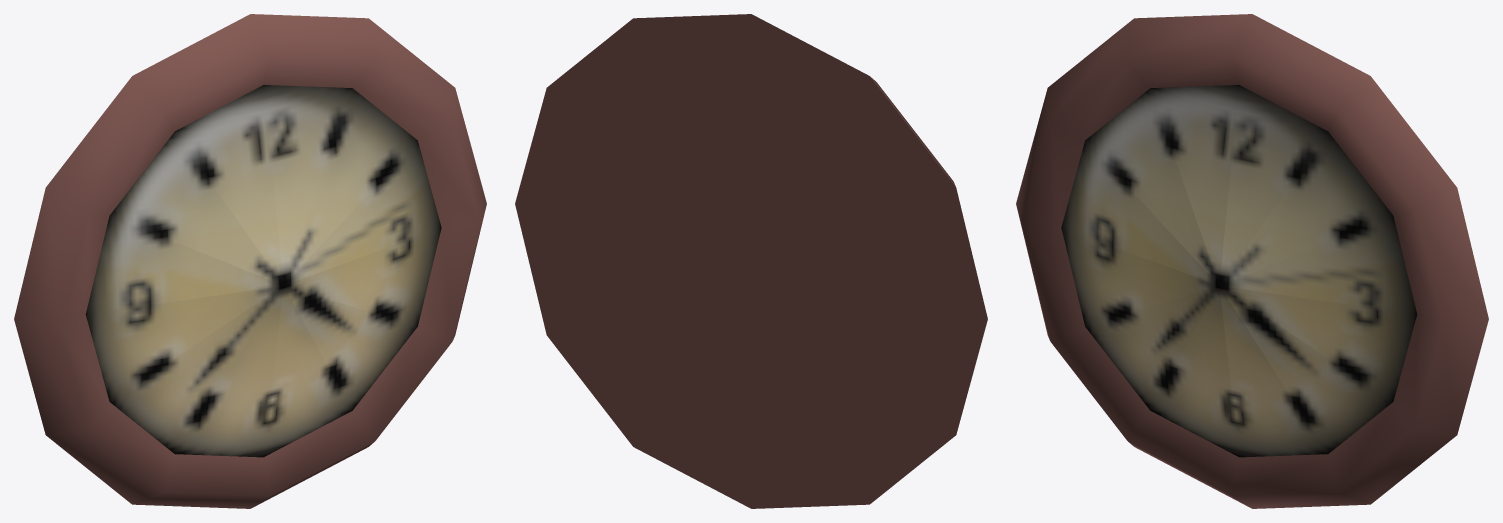
Rendered from Wall_Clock_F.FBX.
The picture shows the model from 3 angles, left to right: view 1: azimuth 30°, elevation 25°; view 2: azimuth 150°, elevation 25°; view 3: azimuth 330°, elevation 25°; orthographic projection.
Visible parts, largest first — view 1: Wall_Clock; view 2: Wall_Clock; view 3: Wall_Clock.
Part boxes in pixels (bbox=[...]): Wall_Clock: bbox=[14, 14, 486, 508]; Wall_Clock: bbox=[515, 14, 987, 508]; Wall_Clock: bbox=[1016, 14, 1488, 508].
Bounding box in the file's own units: 118 × 118 × 14.32.
